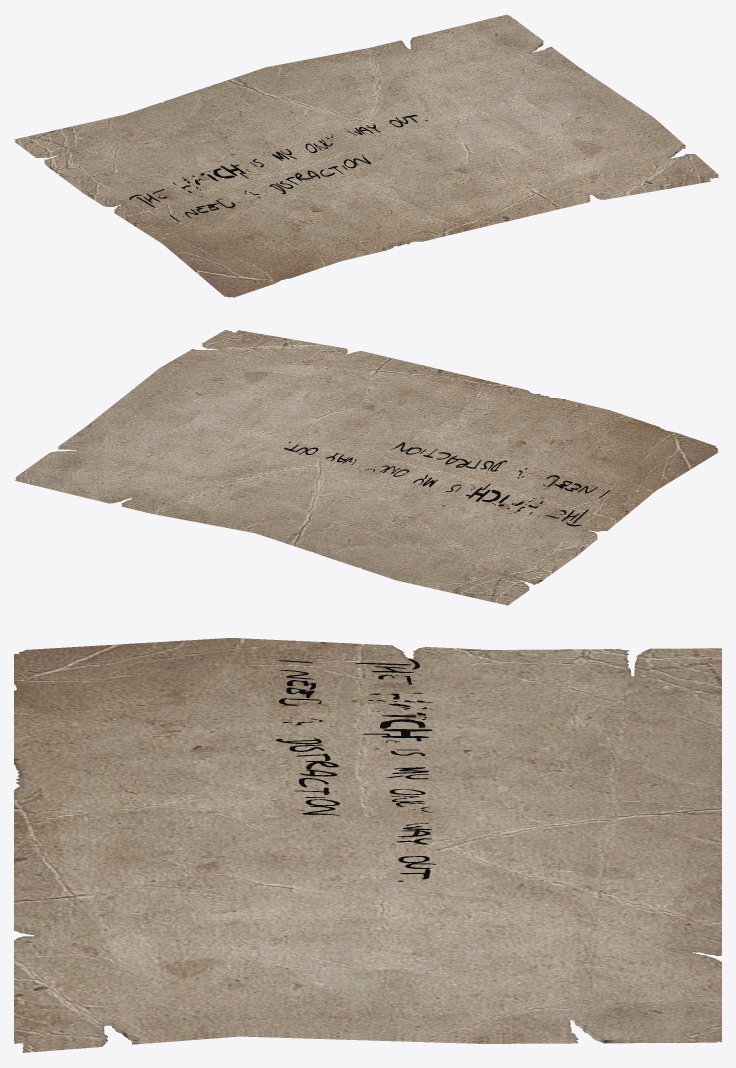
File: 01_01_note_munshi_construct.dae
The picture shows the model from 3 angles, top to bottom: view 1: azimuth 30°, elevation 25°; view 2: azimuth 150°, elevation 25°; view 3: azimuth 270°, elevation 25°; orthographic projection. The views are drawn at different scales.
Parts seen in each view (by area): view 1: note_paper, note_Construct; view 2: note_paper, note_Construct; view 3: note_paper, note_Construct.
Boxes of the visible parts, x1,y1,x2,y2 form: note_paper: [14, 14, 718, 297]; note_Construct: [129, 115, 427, 221]; note_paper: [15, 330, 718, 605]; note_Construct: [284, 441, 610, 526]; note_paper: [14, 638, 721, 1052]; note_Construct: [276, 658, 436, 881].
Size of the model in its own units: 0.248 by 0.00893 by 0.1862.
